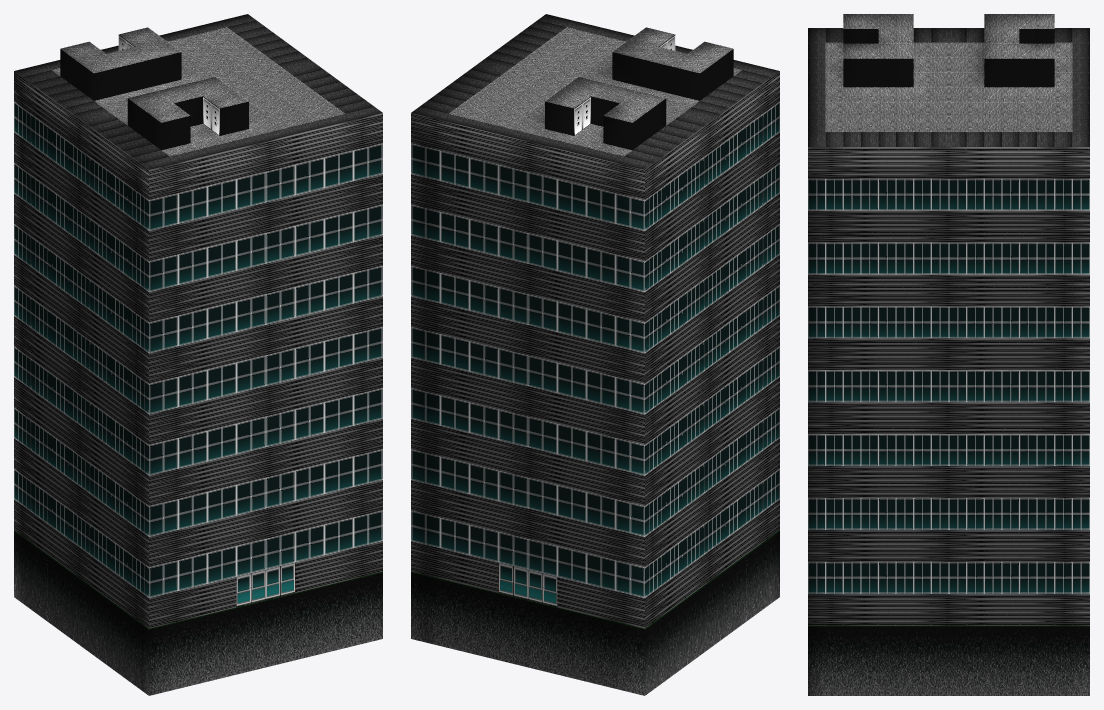
The model's file is kantoor_mod2_2b.fbx.
3 renders of one model, left to right at view 1: azimuth 30°, elevation 25°; view 2: azimuth 150°, elevation 25°; view 3: azimuth 270°, elevation 25°, orthographic. The views are drawn at different scales.
Visible parts, largest first — view 1: kantoor_mod2_2b; view 2: kantoor_mod2_2b; view 3: kantoor_mod2_2b.
Part boxes in pixels (box(x1,y1,x2,y2)): kantoor_mod2_2b: box(14, 14, 382, 695); kantoor_mod2_2b: box(411, 14, 779, 695); kantoor_mod2_2b: box(808, 14, 1089, 695).
Size of the model in its own units: 2880 by 6516 by 2880.
